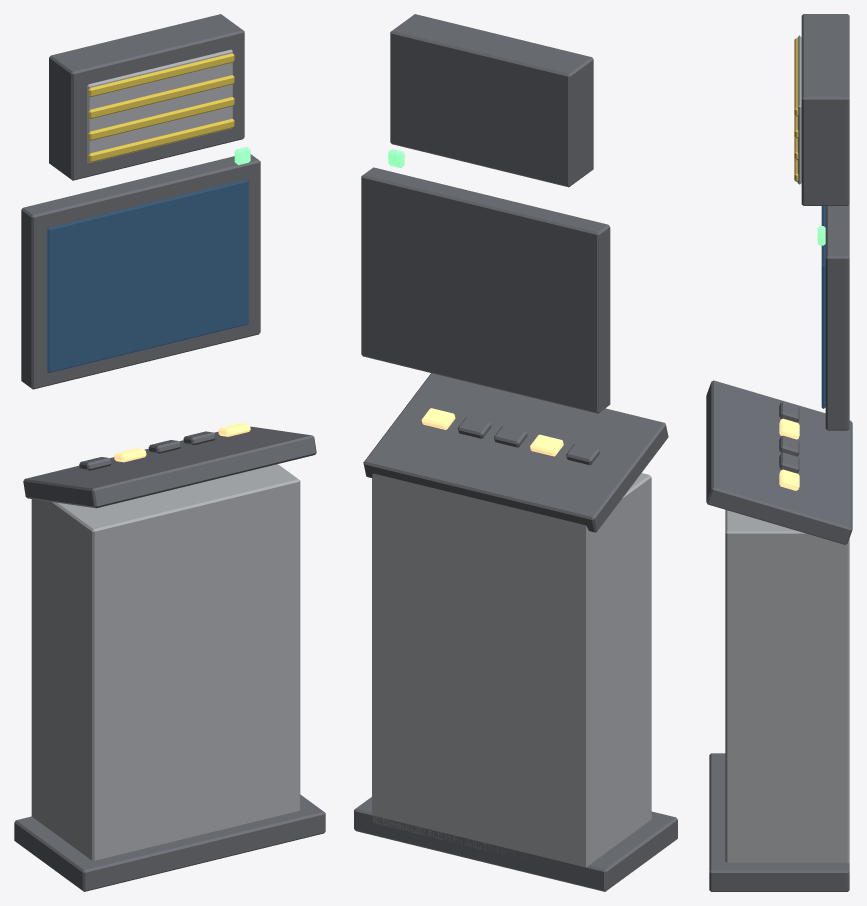
Rendered from trader_terminal.glb.
The picture shows the model from 3 angles, left to right: view 1: azimuth 30°, elevation 25°; view 2: azimuth 150°, elevation 25°; view 3: azimuth 270°, elevation 25°; orthographic projection. The views are drawn at different scales.
Visible parts, largest first — view 1: trader_terminal; view 2: trader_terminal; view 3: trader_terminal.
Part boxes in pixels (bbox=[...]): trader_terminal: bbox=[14, 14, 325, 891]; trader_terminal: bbox=[354, 14, 677, 891]; trader_terminal: bbox=[706, 14, 852, 891].
Bounding box in the file's own units: 0.7 × 2.14 × 0.3643.
